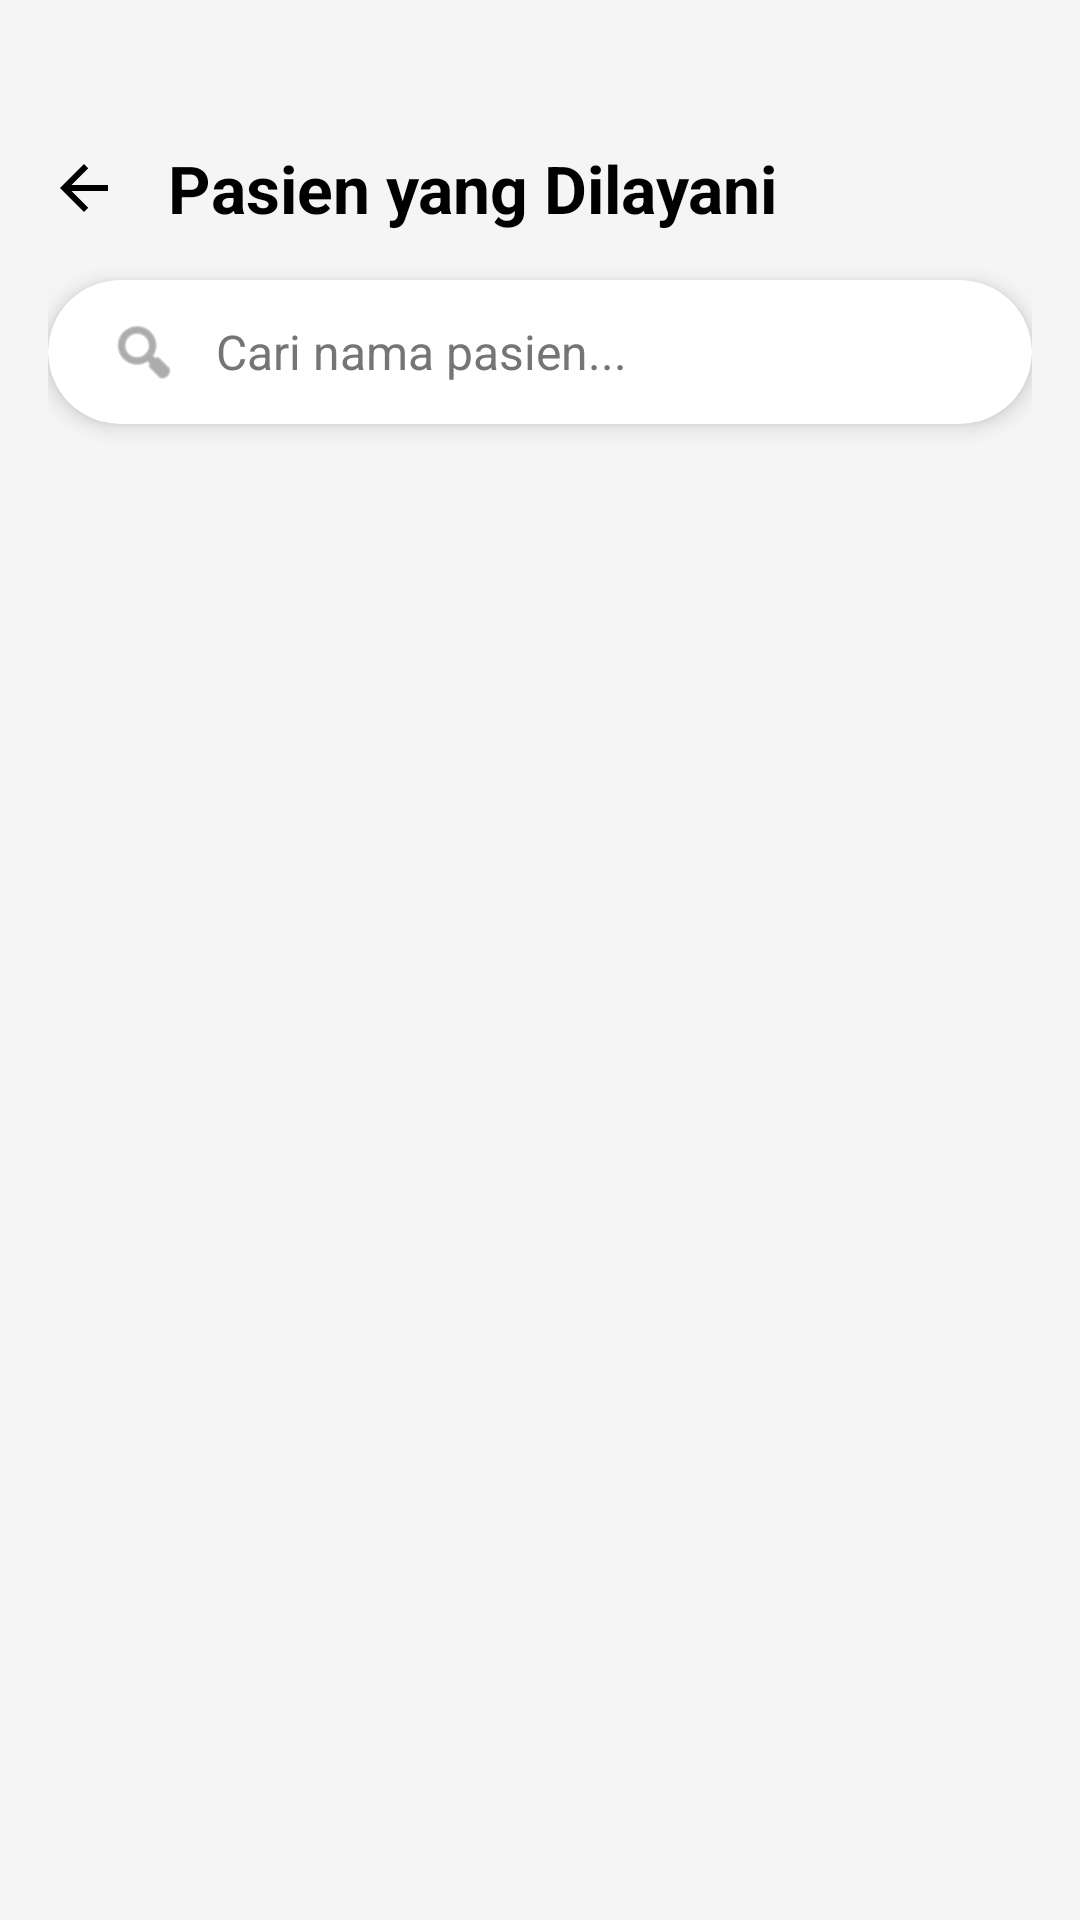

Named icons in this screenshot (1080*1920) and their bounding boxes, bbox=(x1, y1, x2, y2):
Back: bbox=(60, 164, 108, 212)
search: bbox=(118, 326, 170, 379)
